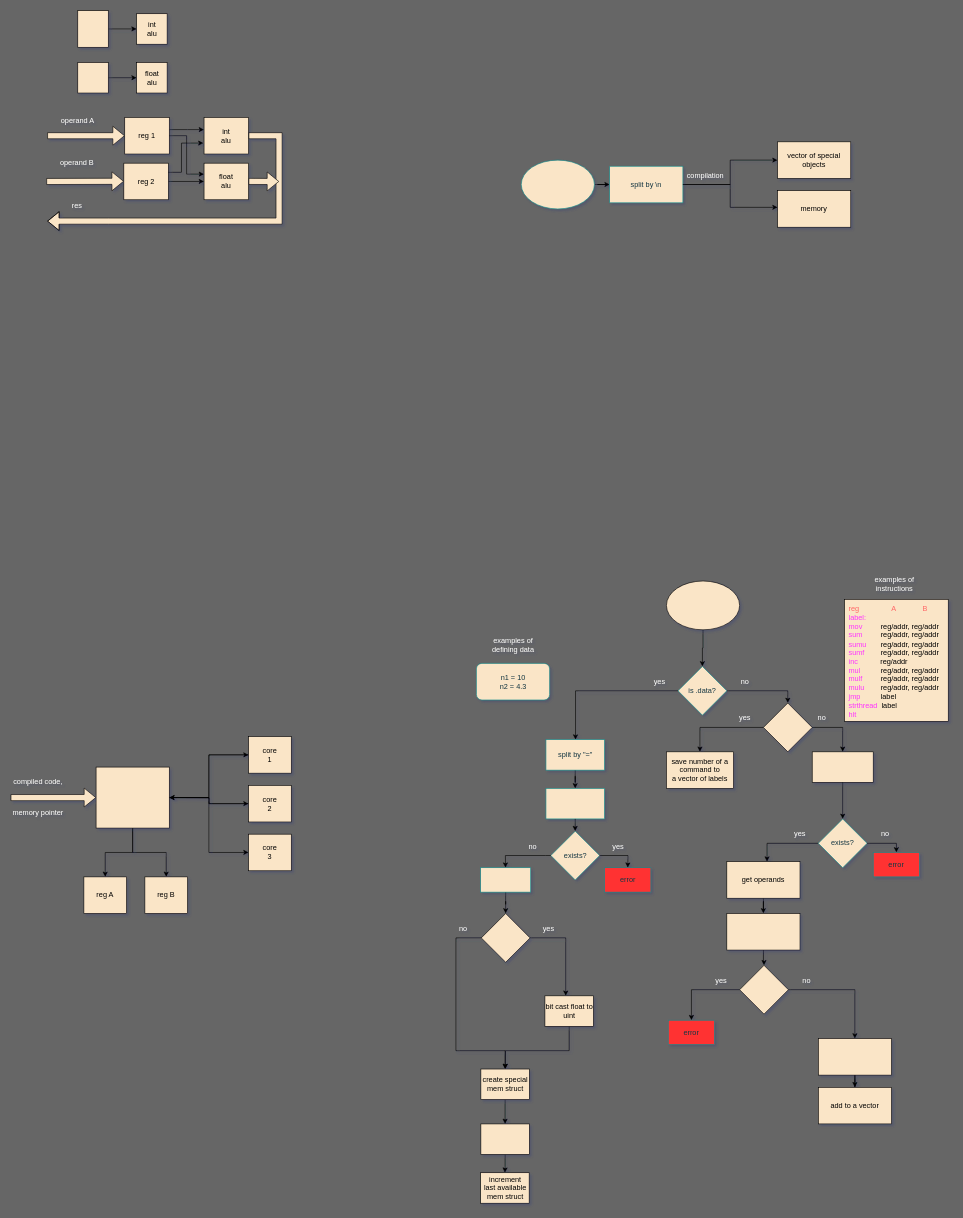
The diagram is 963 pixels wide and 1218 high, and some of its shapes have lost their labels. Each missing label, with the box of its shape:
Control Unit: (95, 766, 169, 828)
create object of a special class: (818, 1038, 892, 1075)
error?: (739, 965, 788, 1014)
get insruction: (812, 751, 873, 782)
get line of code: (666, 580, 740, 630)
get sources: (521, 160, 594, 209)
get value: (480, 867, 531, 892)
get var name: (545, 788, 605, 819)
is float?: (481, 913, 530, 962)
is label?: (763, 702, 812, 752)
resolve operands(names into addresses, etc): (726, 913, 800, 950)
save in memory: (480, 1123, 529, 1154)
sum sumu mul mulu: (77, 10, 108, 47)
sumf mulf: (77, 62, 108, 93)
